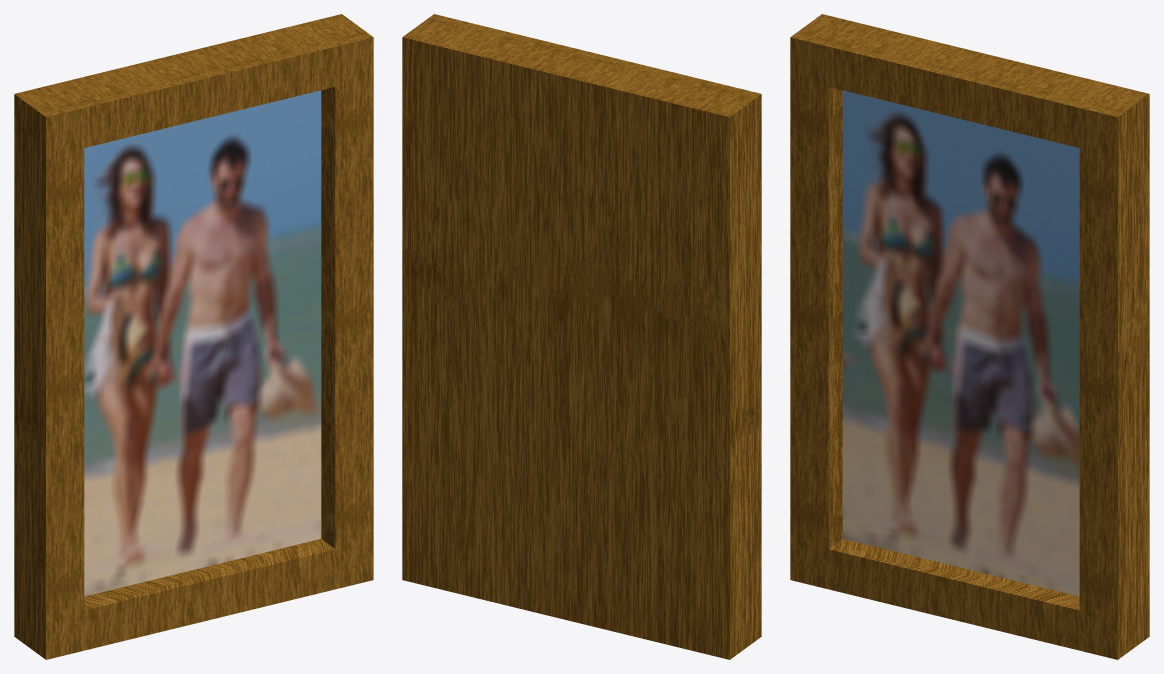
File: PictureHanging4.FBX
3 views of the same model, side by side, from view 1: azimuth 30°, elevation 25°; view 2: azimuth 150°, elevation 25°; view 3: azimuth 330°, elevation 25° (orthographic).
Parts seen in each view (by area): view 1: Box001; view 2: Box001; view 3: Box001.
Boxes of the visible parts, x1=… form: Box001: x1=14, y1=14, x2=373, y2=659; Box001: x1=402, y1=14, x2=761, y2=659; Box001: x1=790, y1=14, x2=1149, y2=659.
Bounding box in the file's own units: 31.59 × 50 × 5.33.
2 materials, 2 textured.
